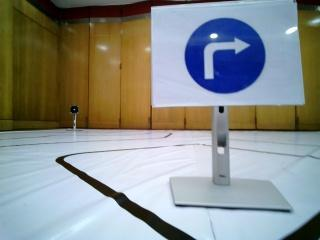right: (153, 6, 296, 102)
